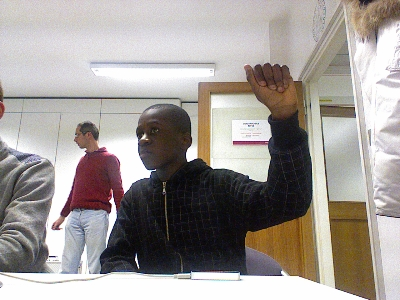石头: (241, 60, 300, 109)
